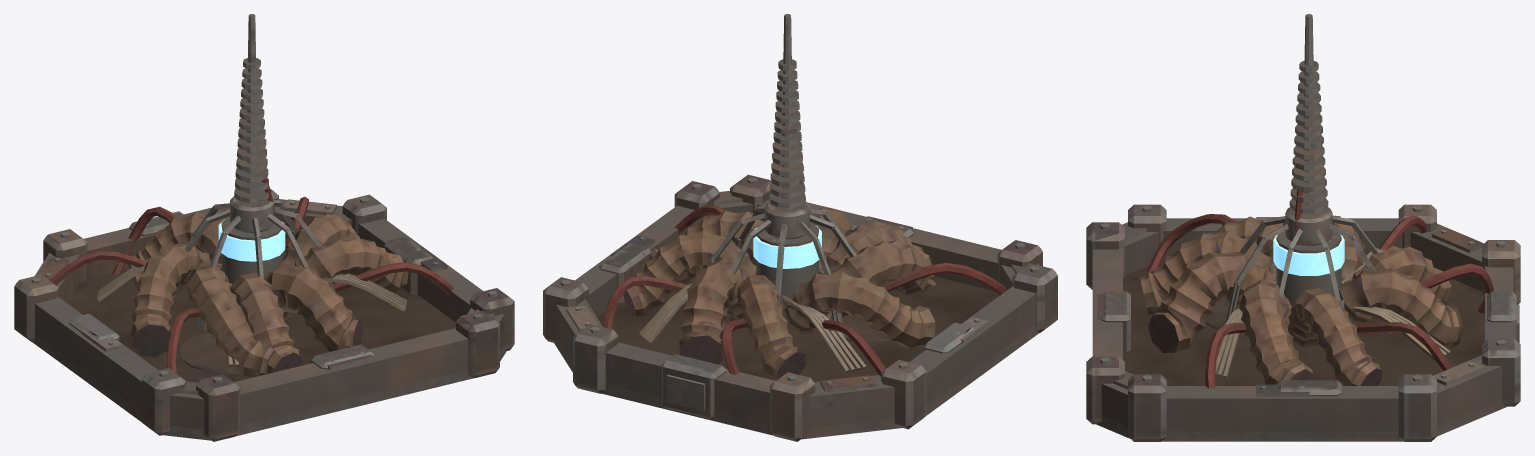
Rendered from beacon.glb.
3 renders of one model, left to right at view 1: azimuth 30°, elevation 25°; view 2: azimuth 150°, elevation 25°; view 3: azimuth 270°, elevation 25°, orthographic. The views are drawn at different scales.
Visible parts, largest first — view 1: body, anim_glow_light; view 2: body, anim_glow_light; view 3: body, anim_glow_light.
Boxes of the visible parts, x1,y1,x2,y2 form: body: [14, 14, 514, 441]; anim_glow_light: [218, 219, 285, 261]; body: [543, 14, 1057, 441]; anim_glow_light: [753, 225, 821, 268]; body: [1086, 14, 1520, 441]; anim_glow_light: [1273, 234, 1344, 275].
Size of the model in its own units: 2.97 by 2.5 by 2.93.
Materials: 2 (2 with a texture image).
